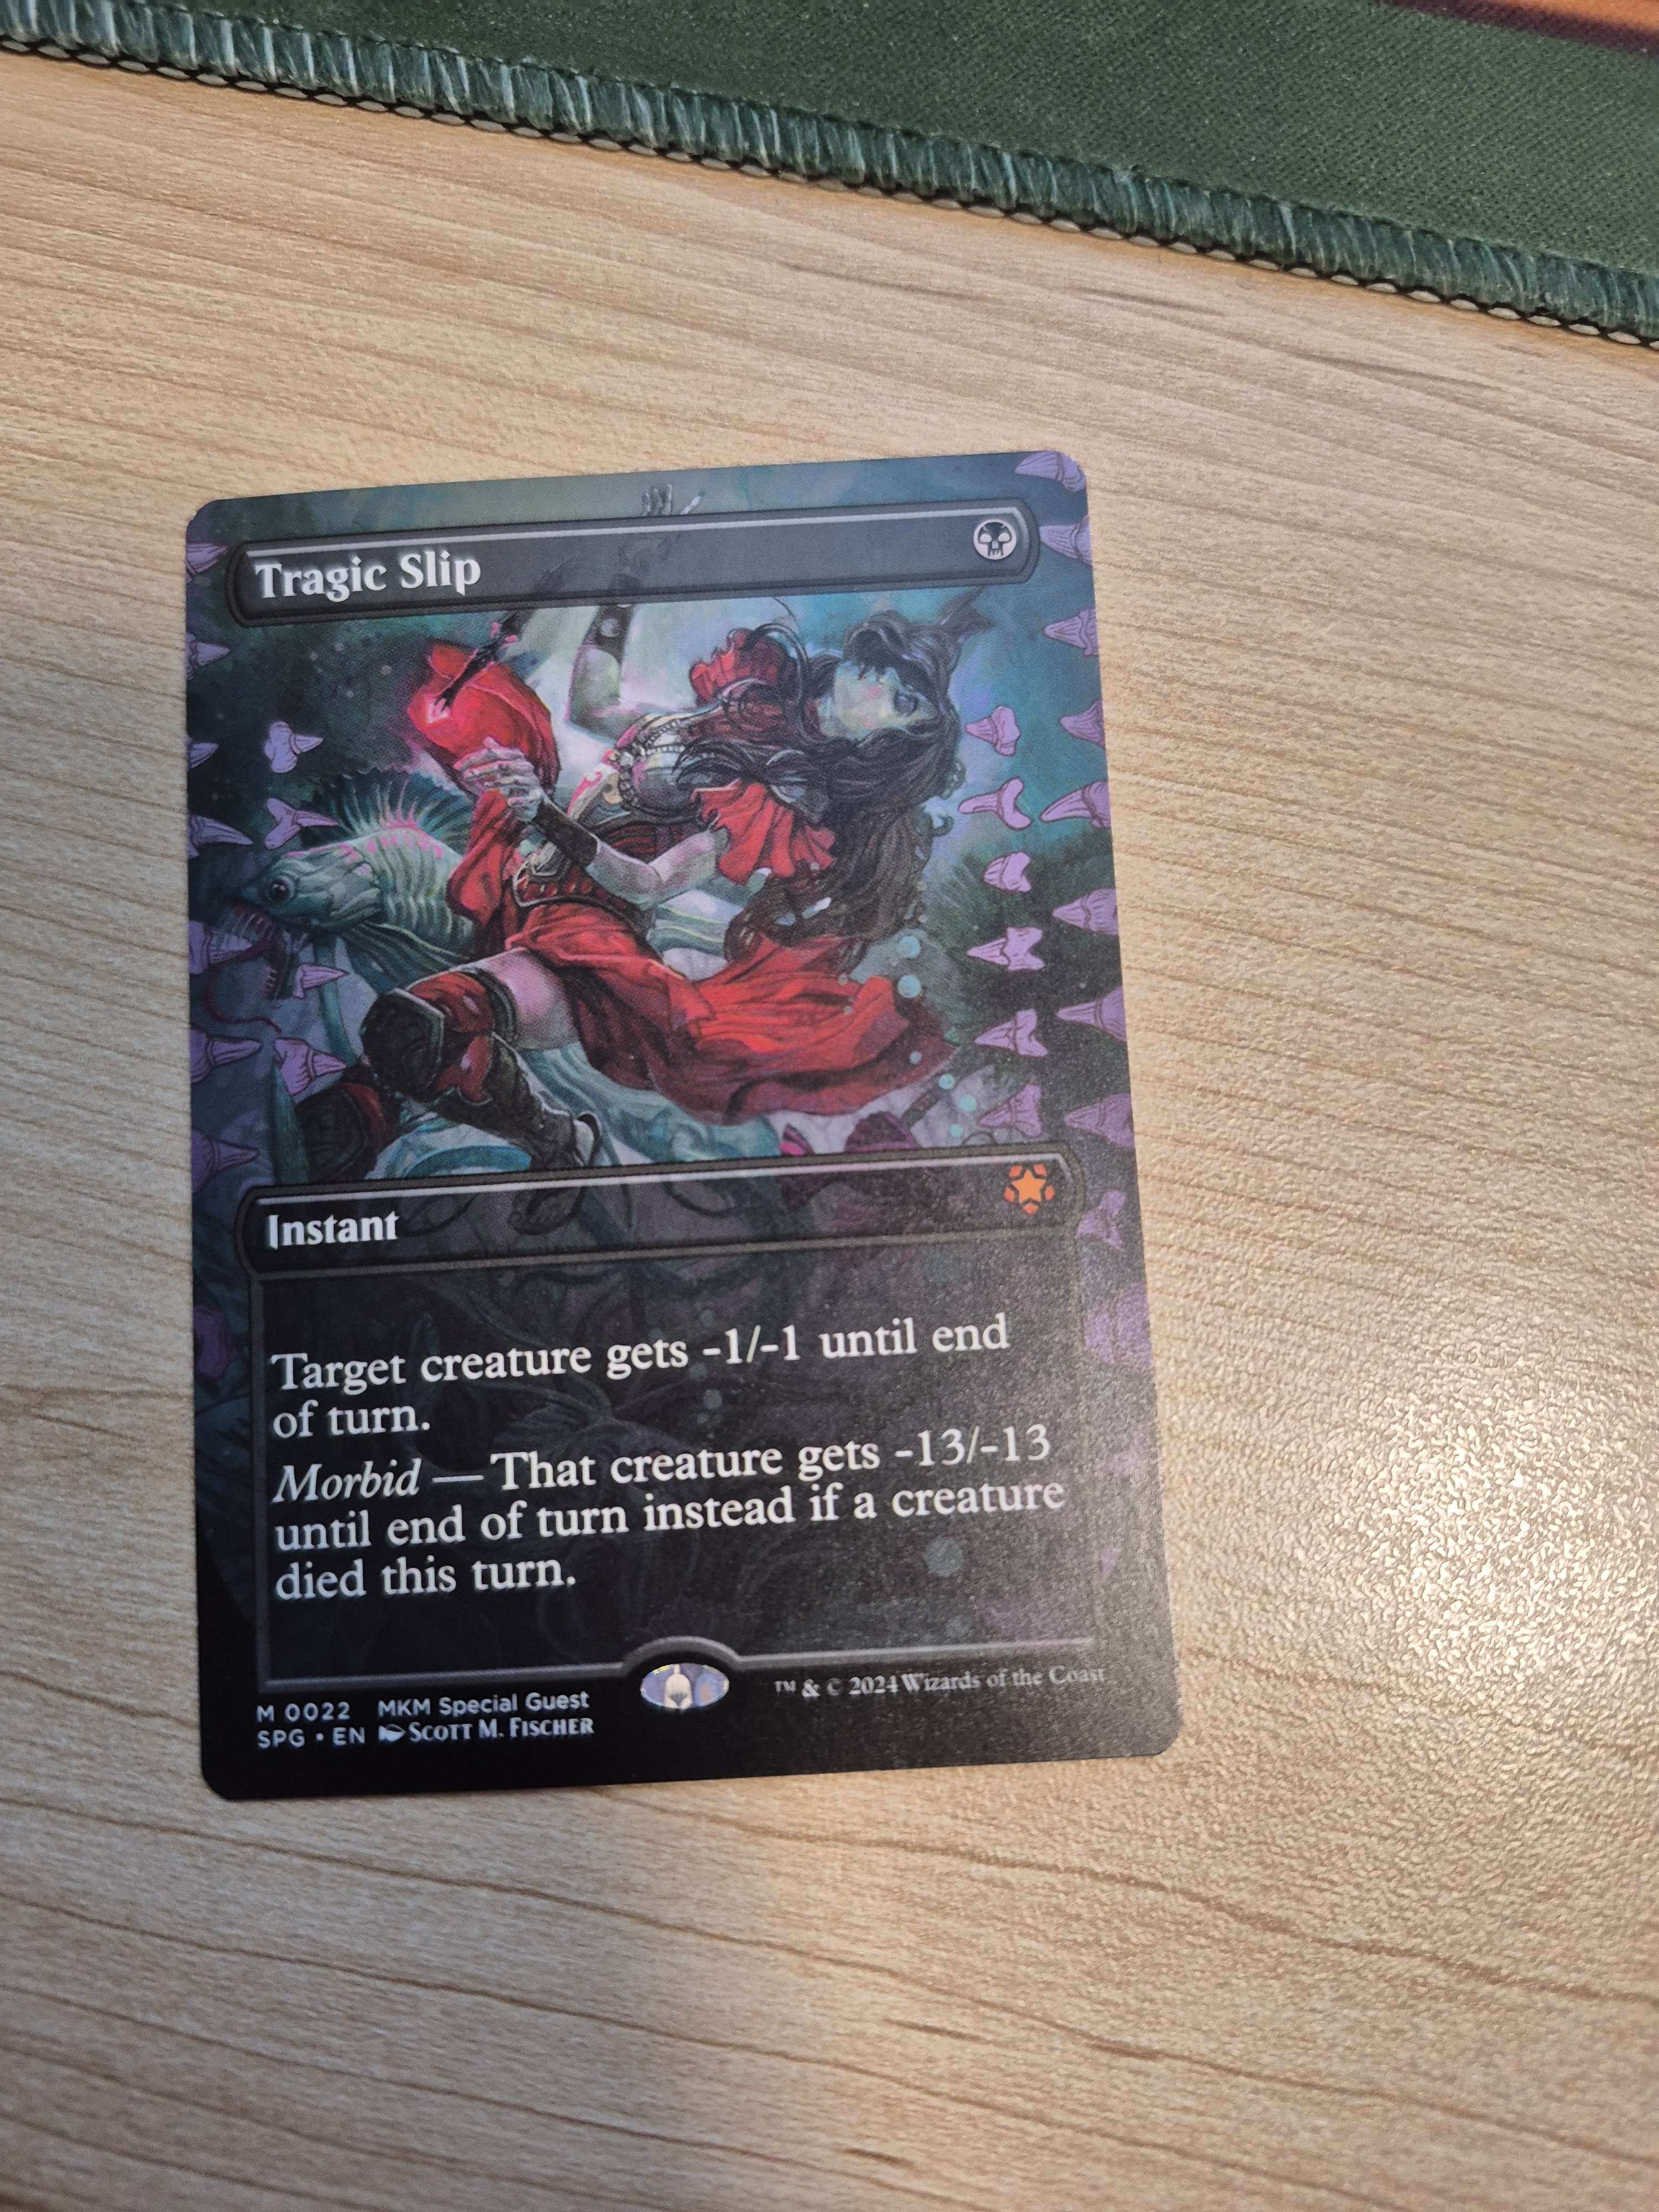mtg_card: (138, 455, 1230, 1796)
